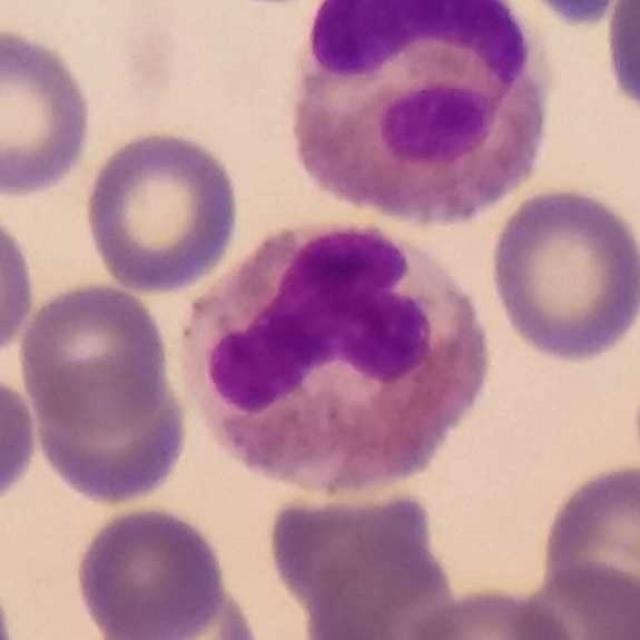eosino: (173, 218, 490, 497), (290, 0, 551, 219)
